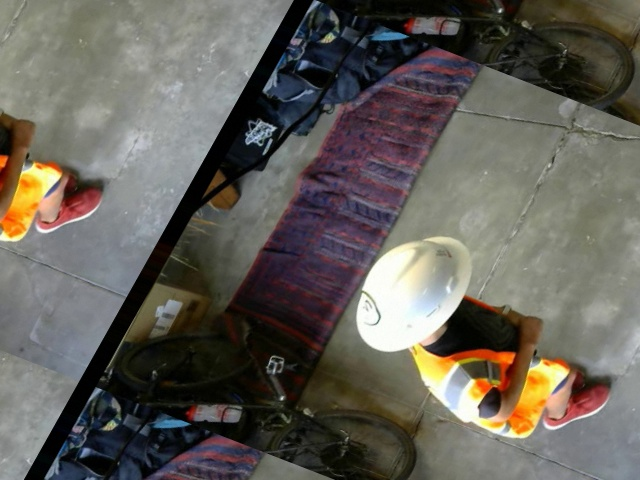three: (347, 290, 388, 326)
